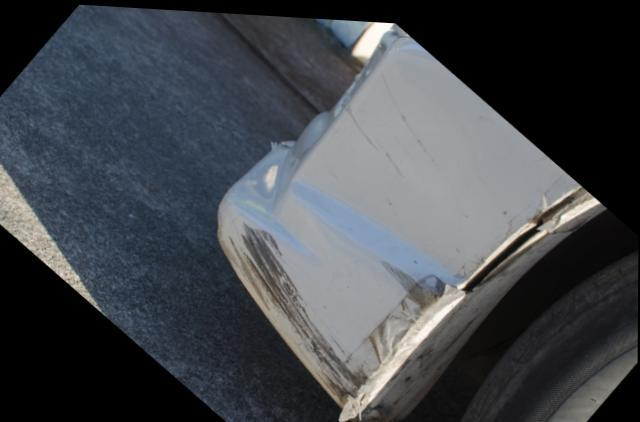scratch: (222, 220, 369, 400)
